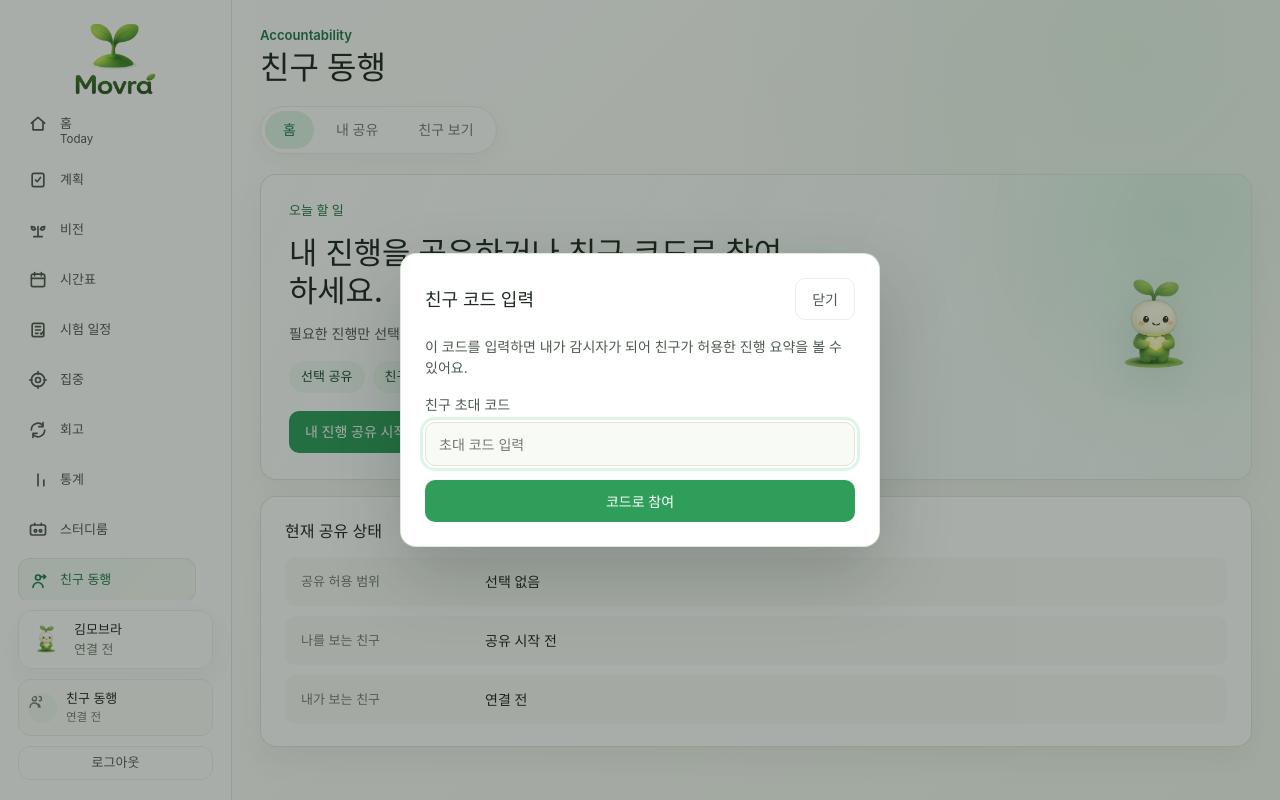
it: AccountabilityPage › keeps the join success UI and moves to watch when analytics fails
The image size is (1280, 800).
Expected: the heading "친구 동행" is shown, [260, 50, 386, 86]
Type "FRIEND15" into the field labelled "친구 초대 코드". click: (640, 444)
box: [425, 422, 855, 466]
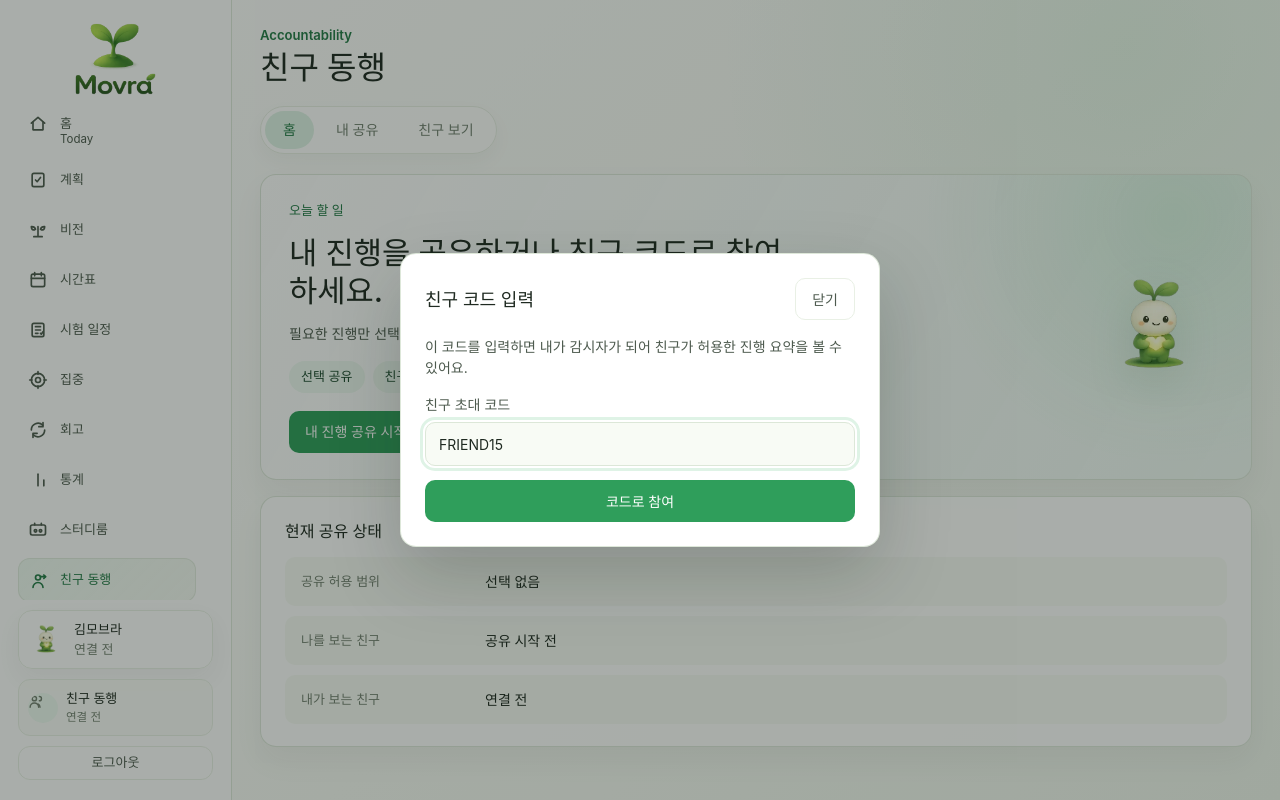
Click the button "코드로 참여". click: (640, 501)
box: [425, 480, 855, 522]
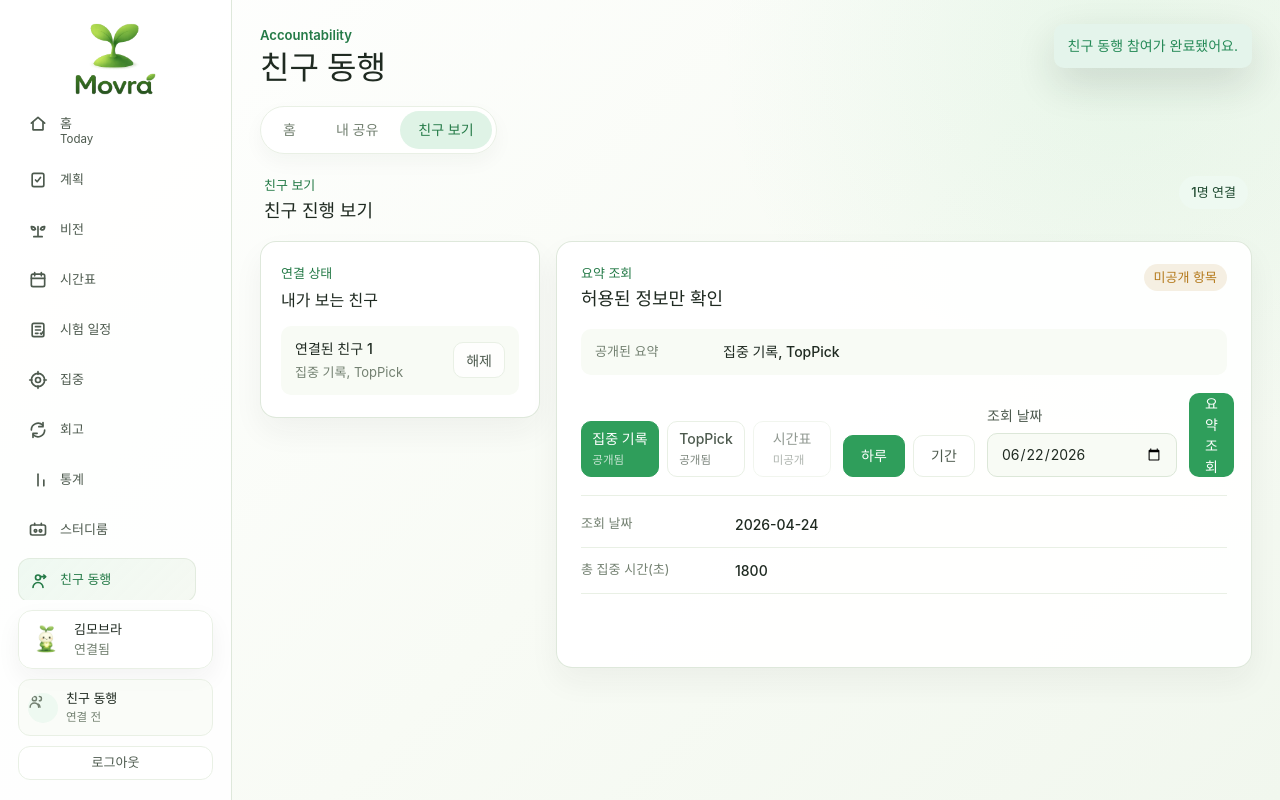
Expected: the text "친구 동행 참여가 완료됐어요." is shown, [1054, 24, 1252, 68]
Expected: the text "연결된 친구 1" is shown, [295, 340, 373, 357]
